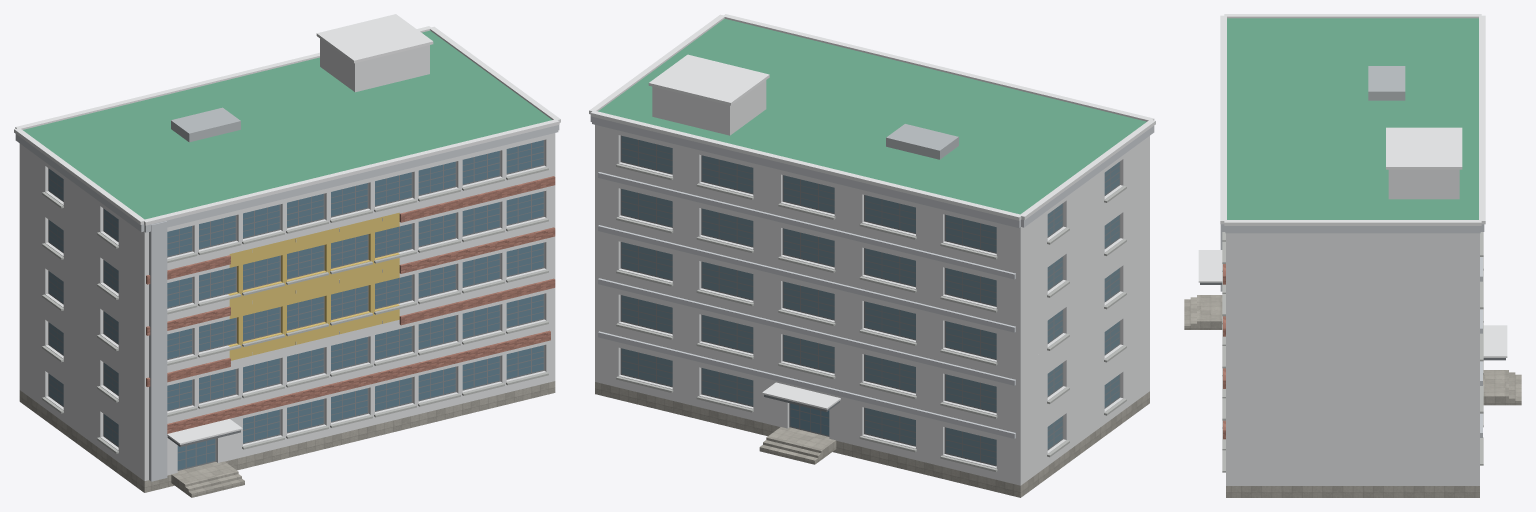
3 renders of one model, left to right at view 1: azimuth 30°, elevation 25°; view 2: azimuth 150°, elevation 25°; view 3: azimuth 270°, elevation 25°, orthographic. The views are drawn at different scales.
Visible parts, largest first — view 1: west-wing__panel, west-wing__canopy, west-wing__glass, west-wing__frame, west-wing__cap, west-wing__guardbrick, west-wing__yellow, west-wing__band, west-wing__sill, west-wing__stone, west-wing__sideglass, west-wing__steel (+2 smaller); view 2: west-wing__panel, west-wing__canopy, west-wing__sideglass, west-wing__band, west-wing__cap, west-wing__frame, west-wing__sill, west-wing__stone, west-wing__steel, west-wing__stair-north-rear, west-wing__glass, west-wing__threshold-north-rear; view 3: west-wing__panel, west-wing__canopy, west-wing__cap, west-wing__stone, west-wing__band, west-wing__sill, west-wing__steel, west-wing__threshold-north-rear, west-wing__threshold-west-front, west-wing__stair-north-rear, west-wing__stair-west-front.
Boxes of the visible parts, box(x1,y1,x2,y2) form: west-wing__panel: box(19, 39, 555, 480); west-wing__canopy: box(23, 30, 551, 219); west-wing__glass: box(167, 140, 543, 469); west-wing__frame: box(48, 140, 544, 470); west-wing__cap: box(14, 14, 560, 444); west-wing__guardbrick: box(146, 176, 555, 433); west-wing__yellow: box(228, 212, 399, 360); west-wing__band: box(15, 125, 559, 481); west-wing__sill: box(42, 167, 548, 453); west-wing__stone: box(19, 381, 555, 492); west-wing__sideglass: box(49, 169, 118, 446); west-wing__steel: box(171, 107, 240, 142); west-wing__panel: box(595, 80, 1149, 485); west-wing__canopy: box(598, 18, 1146, 214); west-wing__sideglass: box(621, 136, 1119, 465); west-wing__band: box(590, 116, 1154, 438); west-wing__cap: box(589, 14, 1155, 409); west-wing__frame: box(620, 135, 1120, 466); west-wing__sill: box(616, 164, 1126, 471); west-wing__stone: box(595, 382, 1149, 497); west-wing__steel: box(886, 124, 958, 159); west-wing__stair-north-rear: box(759, 435, 824, 464); west-wing__glass: box(790, 403, 829, 435); west-wing__threshold-north-rear: box(770, 427, 836, 457); west-wing__panel: box(1226, 169, 1479, 485); west-wing__canopy: box(1227, 18, 1478, 219); west-wing__cap: box(1198, 14, 1507, 357); west-wing__stone: box(1226, 486, 1479, 497); west-wing__band: box(1220, 224, 1484, 437); west-wing__sill: box(1222, 232, 1483, 472); west-wing__steel: box(1368, 66, 1405, 100); west-wing__threshold-north-rear: box(1483, 370, 1502, 405); west-wing__threshold-west-front: box(1203, 295, 1222, 329); west-wing__stair-north-rear: box(1502, 370, 1521, 405); west-wing__stair-west-front: box(1184, 295, 1203, 329).
Size of the model in its own units: 29.16 by 20.18 by 19.94.
14 materials, 2 textured.
